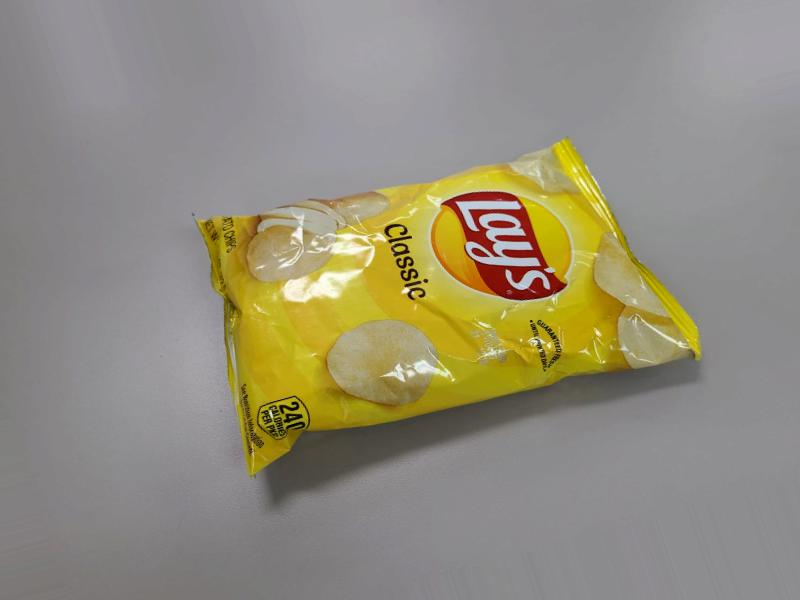lays: (252, 152, 719, 444)
